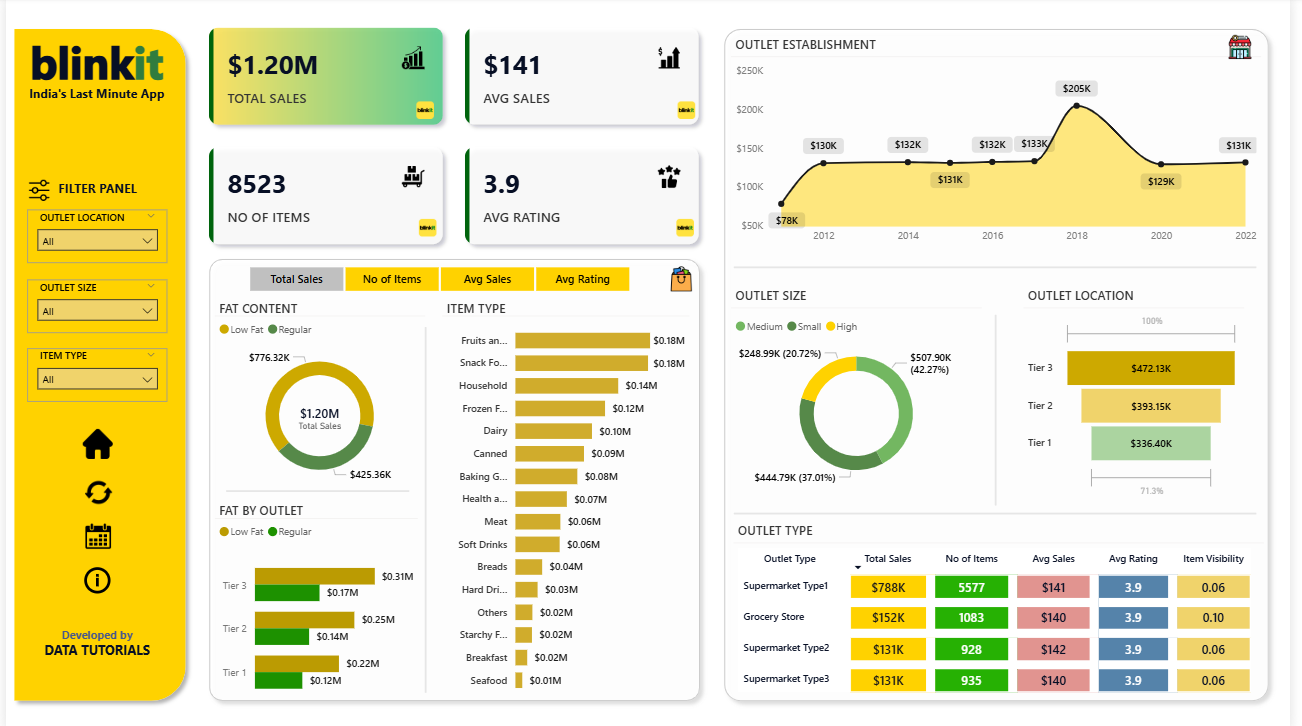

The dashboard page shown, as its layout file describes it:
{"tool":"powerbi","page":{"name":"Home","canvas":[1400,800],"ordinal":0},"visuals":[{"type":"shape","box":[0,25.3,205,750.7],"z":0},{"type":"textbox","box":[0,33,198.1,82.1],"z":1000},{"type":"cardVisual","fields":{"Data":["BlinkIT Grocery Data.Total Sum Sales","BlinkIT Grocery Data.Average Sales","BlinkIT Grocery Data.No of Items","BlinkIT Grocery Data.Avg Rating"]},"box":[204.8,15.8,569.7,270.8],"z":2000},{"type":"image","box":[71.4,466.3,58.7,42.6],"z":3000},{"type":"image","box":[74.4,521.1,52.1,39.7],"z":4000},{"type":"image","box":[81.8,568.8,38,39.1],"z":5000},{"type":"shape","box":[774.5,25.5,611.7,751.1],"z":6000},{"type":"areaChart","title":"OUTLET ESTABLISHMENT","fields":{"Y":["BlinkIT Grocery Data.Total Sum Sales"],"Category":["BlinkIT Grocery Data.Outlet Establishment Year2"]},"box":[790.6,42.5,578.3,234],"z":7000},{"type":"textbox","box":[0,89.6,198.1,34],"z":8000},{"type":"donutChart","title":"OUTLET SIZE","fields":{"Category":["BlinkIT Grocery Data.Outlet Size"],"Y":["BlinkIT Grocery Data.Total Sum Sales"]},"box":[790.6,316,273.6,224.5],"z":9000},{"type":"funnel","title":"OUTLET LOCATION","fields":{"Category":["BlinkIT Grocery Data.Outlet Location Type"],"Y":["BlinkIT Grocery Data.Total Sum Sales"]},"box":[1110.4,316,240.6,234],"z":10000},{"type":"pivotTable","title":"OUTLET TYPE","fields":{"Rows":["BlinkIT Grocery Data.Outlet Type"],"Values":["BlinkIT Grocery Data.Total Sum Sales","BlinkIT Grocery Data.No of Items","BlinkIT Grocery Data.Average Sales","BlinkIT Grocery Data.Avg Rating","Avg(BlinkIT Grocery Data.Item Visibility)"]},"box":[793.6,572.3,578.7,197.1],"z":11000},{"type":"shape","box":[793.4,284.9,570.8,19.8],"z":12000},{"type":"shape","box":[1064.2,346.2,29.2,208.5],"z":13000},{"type":"shape","box":[212.8,276.6,553.2,500],"z":14000},{"type":"donutChart","title":"FAT CONTENT","fields":{"Y":["BlinkIT Grocery Data.Total Sum Sales"],"Category":["BlinkIT Grocery Data.Item Fat Content"]},"box":[228.3,330.2,229.2,213.2],"z":15000},{"type":"shape","box":[793.4,553.8,570.8,19.8],"z":16000},{"type":"cardVisual","fields":{"Data":["BlinkIT Grocery Data.Total Sum Sales"]},"box":[291.9,428.1,102,54.5],"z":17000},{"type":"slicer","fields":{"Values":["Metric.Metric"]},"box":[240,287.5,464.2,39.6],"z":18000},{"type":"barChart","title":"ITEM TYPE","fields":{"Y":["BlinkIT Grocery Data.Total Sum Sales"],"Category":["BlinkIT Grocery Data.Item Type"]},"box":[475.3,330.2,269.8,438.1],"z":19000},{"type":"shape","box":[442.5,360.4,29.2,399.1],"z":20000},{"type":"clusteredBarChart","title":"FAT BY OUTLET","fields":{"Y":["BlinkIT Grocery Data.Total Sum Sales"],"Category":["BlinkIT Grocery Data.Outlet Location Type"],"Series":["BlinkIT Grocery Data.Item Fat Content"]},"box":[228.3,550.9,221.7,229.2],"z":21000},{"type":"shape","box":[239.6,529.2,200,19.8],"z":22000},{"type":"image","box":[725.5,108.5,33,29.2],"z":23000},{"type":"image","box":[723.6,237.7,33,29.2],"z":24000},{"type":"image","box":[442.5,237.7,33,29.2],"z":25000},{"type":"image","box":[440.6,108.5,33,29.2],"z":26000},{"type":"image","box":[715.6,289.2,41.3,36.9],"z":27000},{"type":"image","box":[1327.5,33.4,36,40.4],"z":28000},{"type":"slicer","fields":{"Values":["BlinkIT Grocery Data.Outlet Location Type"]},"box":[23.7,231.2,153,58],"z":29000},{"type":"slicer","fields":{"Values":["BlinkIT Grocery Data.Outlet Size"]},"box":[23.7,307.7,153,58],"z":30000},{"type":"slicer","fields":{"Values":["BlinkIT Grocery Data.Item Type"]},"box":[23.7,382.4,153,58],"z":31000},{"type":"textbox","box":[36.8,193.4,126.4,31.1],"z":32000},{"type":"image","box":[18.9,184,34.9,53.8],"z":33000},{"type":"textbox","box":[36.8,680.5,125.5,28.8],"z":34000},{"type":"textbox","box":[36.8,697.8,125.5,28.8],"z":35000},{"type":"actionButton","box":[80.6,616.6,38.5,39.7],"z":38000}]}

Visuals, with their boxes in screenshot pixels (x1, y1, x2, y2), scaled from the page's 1400x800 canvas onto the 1302x726 screenshot:
shape: crop(0, 23, 191, 704)
textbox: crop(0, 30, 184, 104)
cardVisual - BlinkIT Grocery Data.Total Sum Sales x BlinkIT Grocery Data.Average Sales: crop(190, 14, 720, 260)
image: crop(66, 423, 121, 462)
image: crop(69, 473, 118, 509)
image: crop(76, 516, 111, 552)
shape: crop(720, 23, 1289, 705)
"OUTLET ESTABLISHMENT" areaChart: crop(735, 39, 1273, 251)
textbox: crop(0, 81, 184, 112)
"OUTLET SIZE" donutChart: crop(735, 287, 990, 491)
"OUTLET LOCATION" funnel: crop(1033, 287, 1256, 499)
"OUTLET TYPE" pivotTable: crop(738, 519, 1276, 698)
shape: crop(738, 259, 1269, 277)
shape: crop(990, 314, 1017, 503)
shape: crop(198, 251, 712, 705)
"FAT CONTENT" donutChart: crop(212, 300, 425, 493)
shape: crop(738, 503, 1269, 521)
cardVisual - BlinkIT Grocery Data.Total Sum Sales: crop(271, 389, 366, 438)
slicer - Metric.Metric: crop(223, 261, 655, 297)
"ITEM TYPE" barChart: crop(442, 300, 693, 697)
shape: crop(412, 327, 439, 689)
"FAT BY OUTLET" clusteredBarChart: crop(212, 500, 418, 708)
shape: crop(223, 480, 409, 498)
image: crop(675, 98, 705, 125)
image: crop(673, 216, 704, 242)
image: crop(412, 216, 442, 242)
image: crop(410, 98, 440, 125)
image: crop(666, 262, 704, 296)
image: crop(1235, 30, 1268, 67)
slicer - BlinkIT Grocery Data.Outlet Location Type: crop(22, 210, 164, 262)
slicer - BlinkIT Grocery Data.Outlet Size: crop(22, 279, 164, 332)
slicer - BlinkIT Grocery Data.Item Type: crop(22, 347, 164, 400)
textbox: crop(34, 176, 152, 204)
image: crop(18, 167, 50, 216)
textbox: crop(34, 618, 151, 644)
textbox: crop(34, 633, 151, 659)
actionButton: crop(75, 560, 111, 596)
